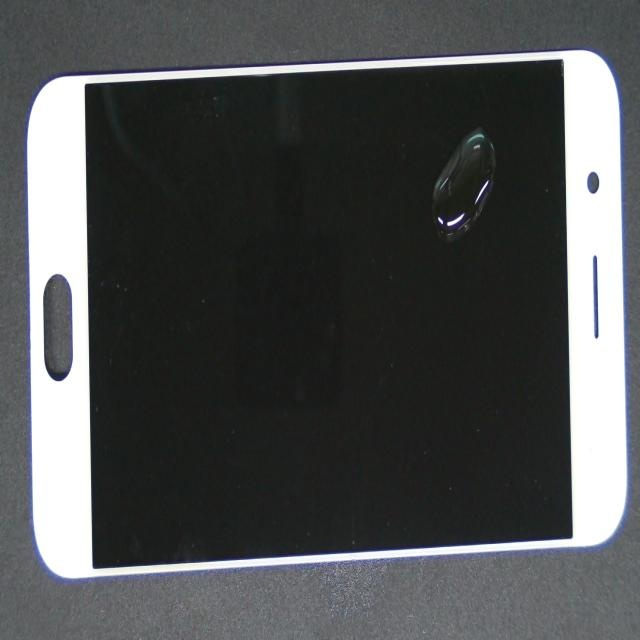oil: (256, 86, 640, 218)
